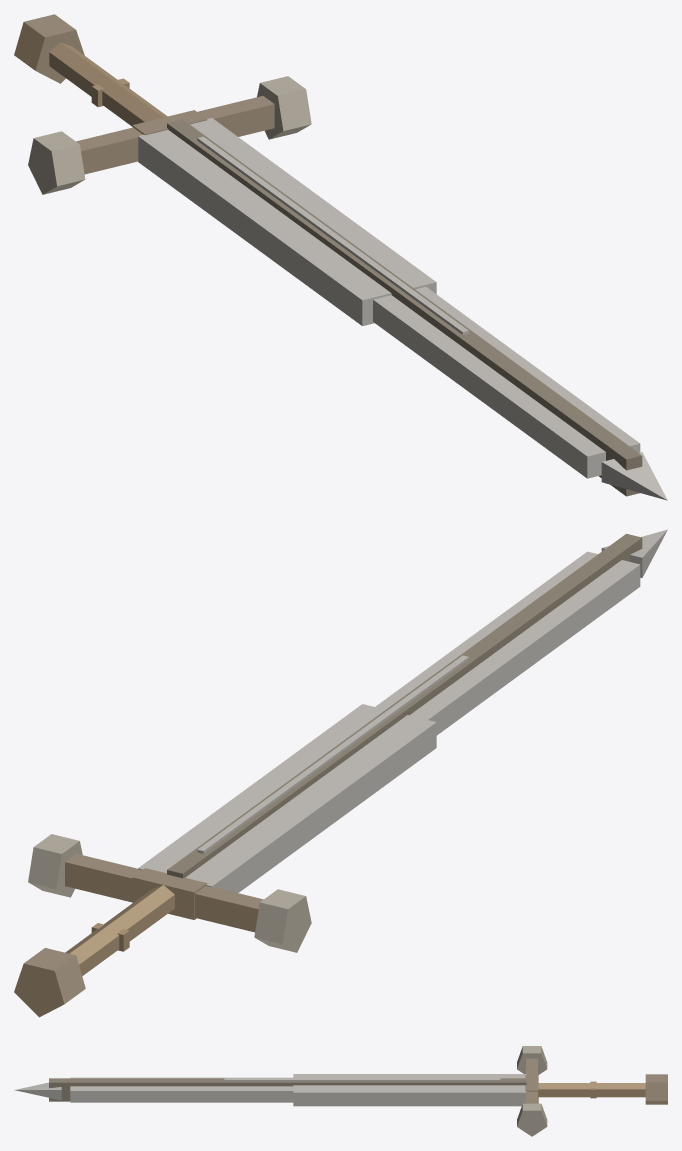
File: bastard_sword_training.glb
3 renders of one model, top to bottom at view 1: azimuth 30°, elevation 25°; view 2: azimuth 150°, elevation 25°; view 3: azimuth 270°, elevation 25°, orthographic. The views are drawn at different scales.
Parts seen in each view (by area): view 1: BladeLower, BladeUpper, BladeSpine, Grip, QuillonCapR, BladeInlay, Pommel, QuillonCapL, QuillonR, QuillonL, BladePoint, GuardCore; view 2: BladeLower, BladeUpper, BladeSpine, Pommel, Grip, QuillonCapR, BladeInlay, QuillonL, QuillonCapL, QuillonR, GuardCore, BladePoint; view 3: BladeLower, BladeUpper, BladeSpine, Grip, BladeInlay, QuillonCapL, Pommel, QuillonCapR, BladePoint, GuardCore, QuillonR.
Part boxes in pixels (<box>): BladeLower: <box>138,118,436,325</box>; BladeUpper: <box>373,286,640,478</box>; BladeSpine: <box>167,119,642,496</box>; Grip: <box>49,42,167,126</box>; QuillonCapR: <box>28,131,85,194</box>; BladeInlay: <box>197,136,468,334</box>; Pommel: <box>14,14,84,83</box>; QuillonCapL: <box>257,76,311,139</box>; QuillonR: <box>76,127,142,174</box>; QuillonL: <box>197,96,274,136</box>; BladePoint: <box>601,452,667,500</box>; GuardCore: <box>132,110,207,135</box>; BladeLower: <box>138,704,436,892</box>; BladeUpper: <box>375,551,640,735</box>; BladeSpine: <box>167,533,642,878</box>; Pommel: <box>14,948,85,1017</box>; Grip: <box>65,885,174,975</box>; QuillonCapR: <box>254,889,311,952</box>; BladeInlay: <box>197,655,468,853</box>; QuillonL: <box>65,853,141,902</box>; QuillonCapL: <box>28,834,82,897</box>; QuillonR: <box>195,886,263,932</box>; GuardCore: <box>132,868,207,919</box>; BladePoint: <box>601,529,667,577</box>; BladeLower: <box>293,1074,526,1106</box>; BladeUpper: <box>70,1077,293,1102</box>; BladeSpine: <box>49,1078,526,1101</box>; Grip: <box>538,1083,645,1097</box>; BladeInlay: <box>224,1078,500,1081</box>; QuillonCapL: <box>517,1103,547,1136</box>; Pommel: <box>645,1074,667,1104</box>; QuillonCapR: <box>517,1046,547,1074</box>; BladePoint: <box>14,1082,61,1100</box>; GuardCore: <box>525,1075,538,1103</box>; QuillonR: <box>526,1058,537,1074</box>.
Size of the model in its own units: 0.288 by 0.0543 by 1.23.
